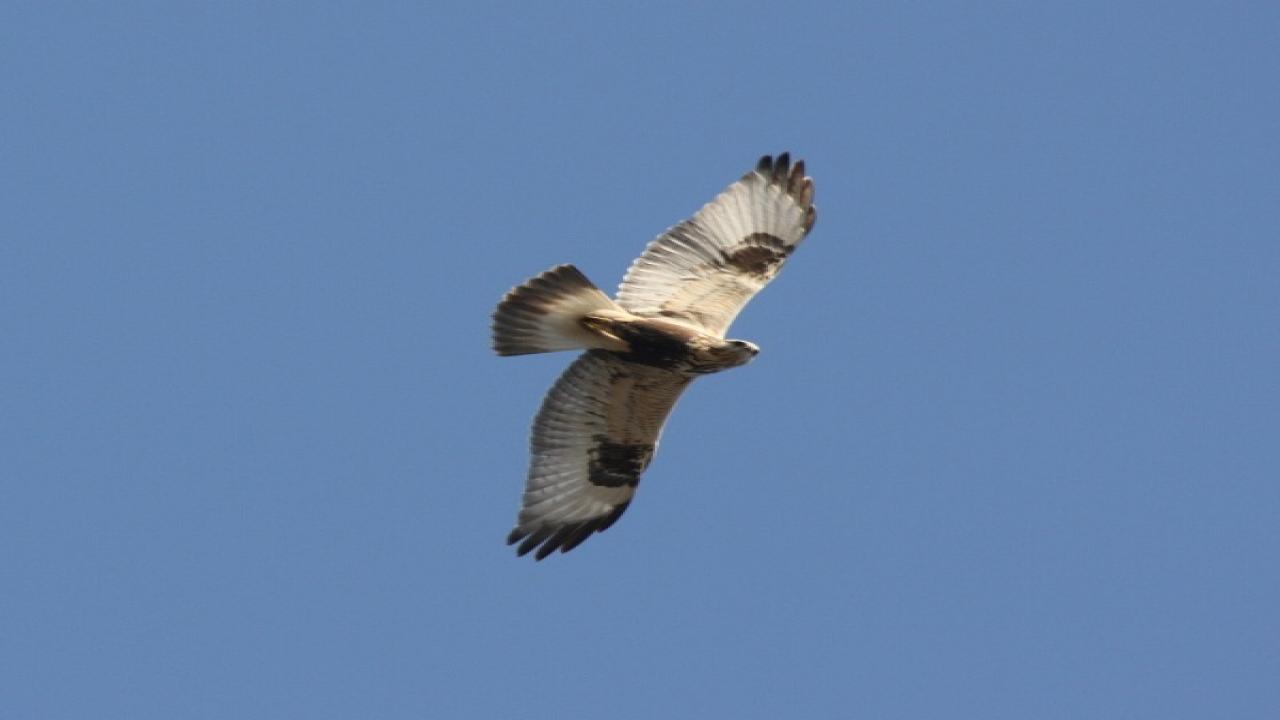Bird: (474, 142, 840, 569)
